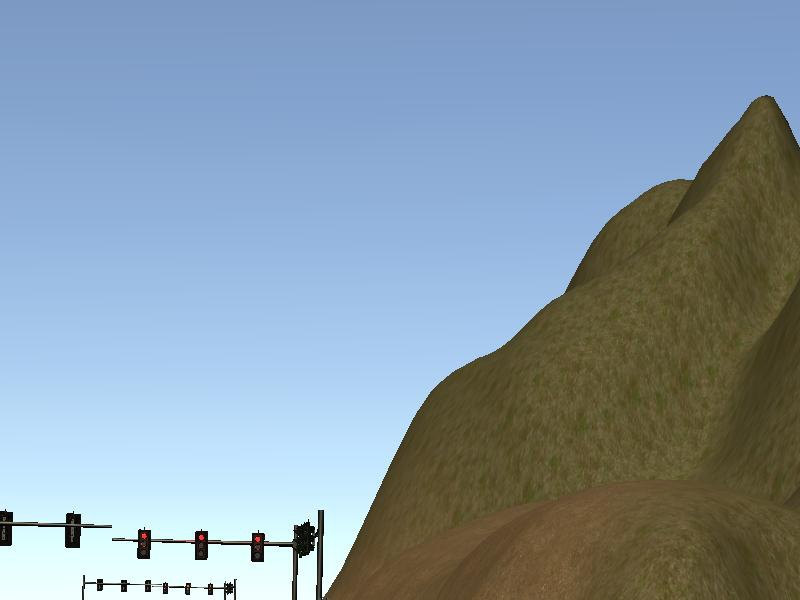Red: (136, 528, 152, 559), (193, 530, 209, 561), (249, 531, 265, 562)
